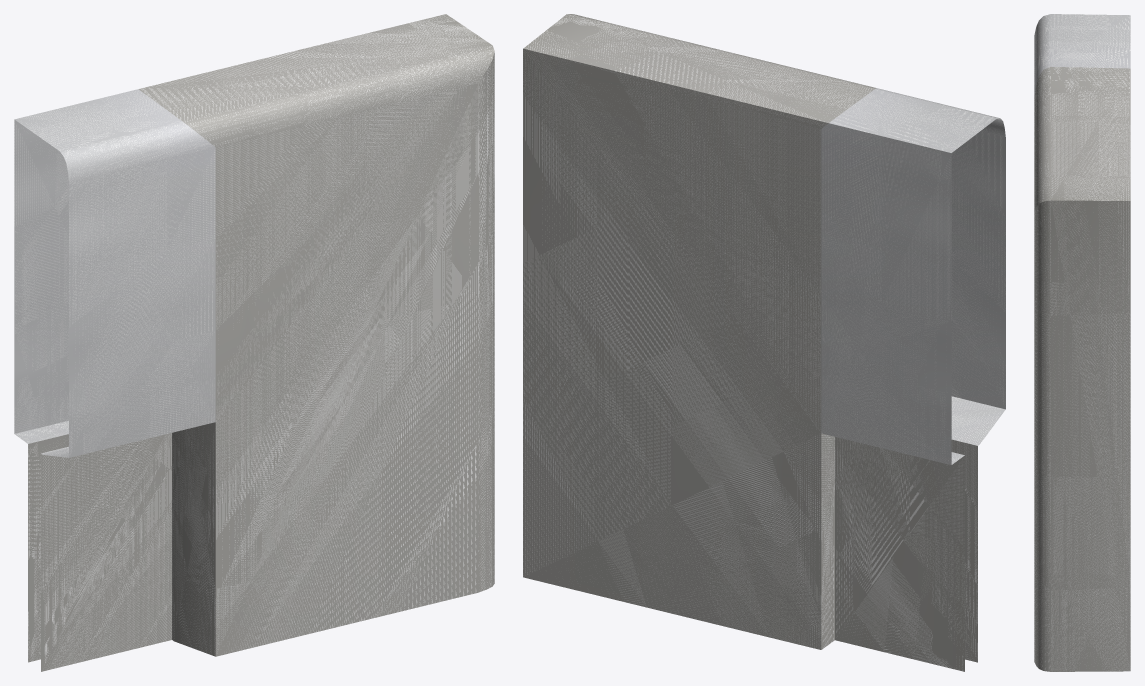
Rendered from original-27.obj.
3 views of the same model, side by side, from view 1: azimuth 30°, elevation 25°; view 2: azimuth 150°, elevation 25°; view 3: azimuth 270°, elevation 25° (orthographic). The views are drawn at different scales.
Parts seen in each view (by area): view 1: LT_21_TR1/LT_21_TR/mesh21/mesh21-geometry#mesh21-geometry; view 2: LT_21_TR1/LT_21_TR/mesh21/mesh21-geometry#mesh21-geometry; view 3: LT_21_TR1/LT_21_TR/mesh21/mesh21-geometry#mesh21-geometry.
Boxes of the visible parts, x1=… form: LT_21_TR1/LT_21_TR/mesh21/mesh21-geometry#mesh21-geometry: x1=14, y1=14, x2=494, y2=671; LT_21_TR1/LT_21_TR/mesh21/mesh21-geometry#mesh21-geometry: x1=523, y1=14, x2=1005, y2=671; LT_21_TR1/LT_21_TR/mesh21/mesh21-geometry#mesh21-geometry: x1=1034, y1=14, x2=1130, y2=671.
Bounding box in the file's own units: 0.124 × 0.1462 × 0.0271.
